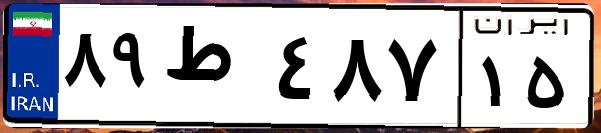1: (475, 38, 525, 113)
4: (270, 28, 330, 110)
5: (525, 38, 570, 115)
7: (385, 28, 445, 110)
8: (330, 28, 385, 110), (57, 26, 110, 100)
9: (110, 28, 158, 98)
ط: (158, 20, 270, 120)
